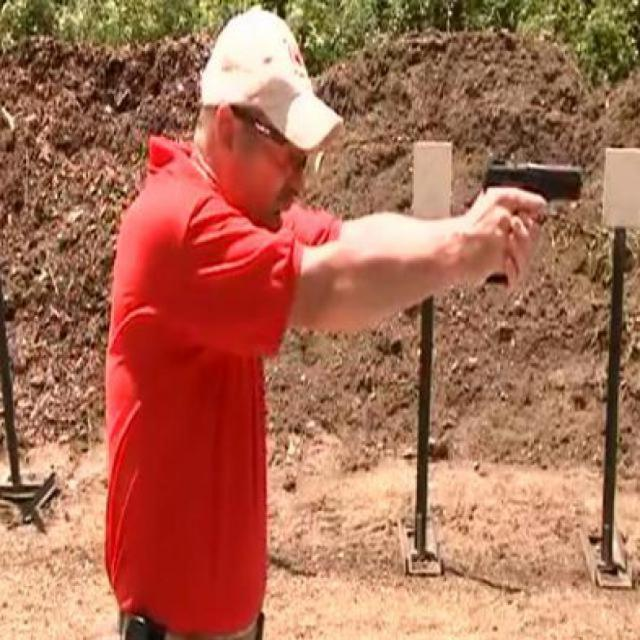pistol: (477, 158, 583, 286)
